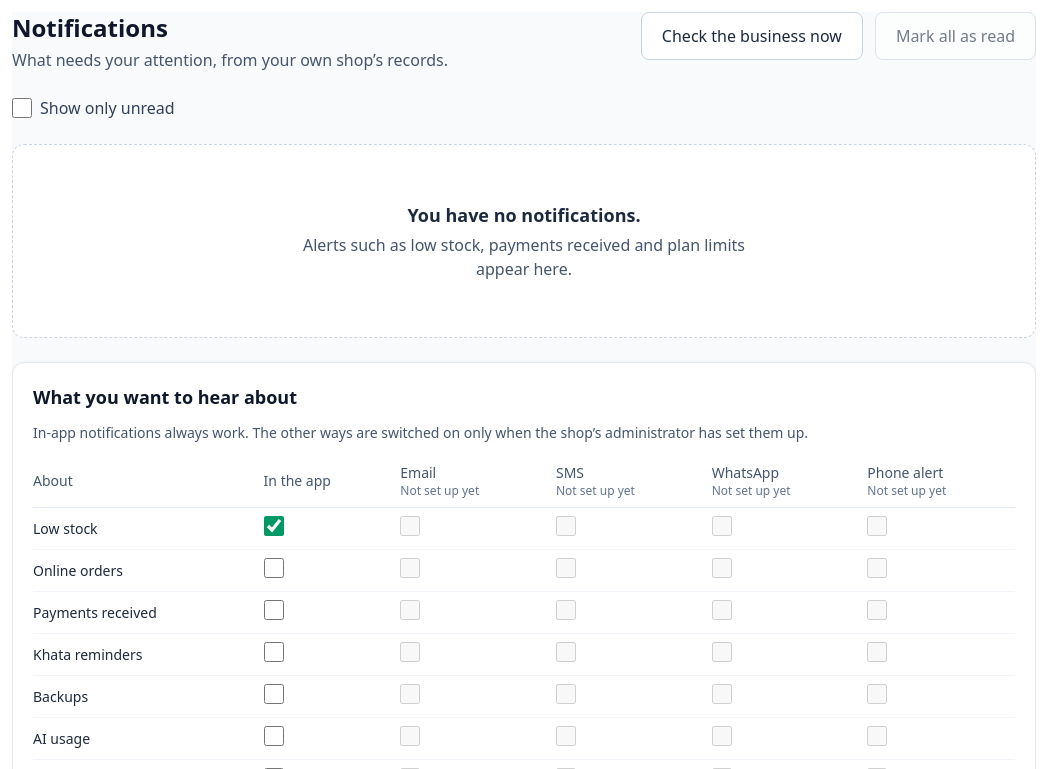
notifications › preferences: channels that are not set up are disabled and labelled, and a change is saved then confirmed
Expected: the checkbox named "Low stock — Email" is disabled, [400,516,420,536]
Expected: the text "Not set up yet" below "Email" is shown, [400,482,479,499]
Click the checkbox named "Low stock — In the app" at (274, 526), box [264,516,284,536]
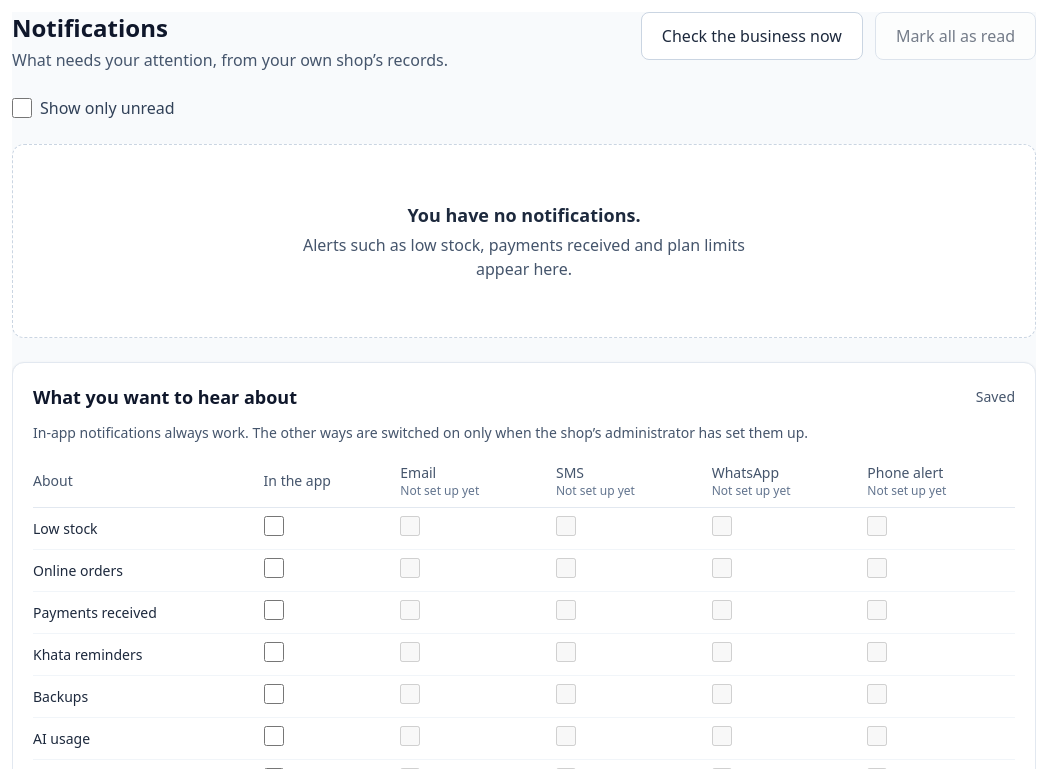
Expected: the text "Saved" is shown, [976,387,1015,407]
